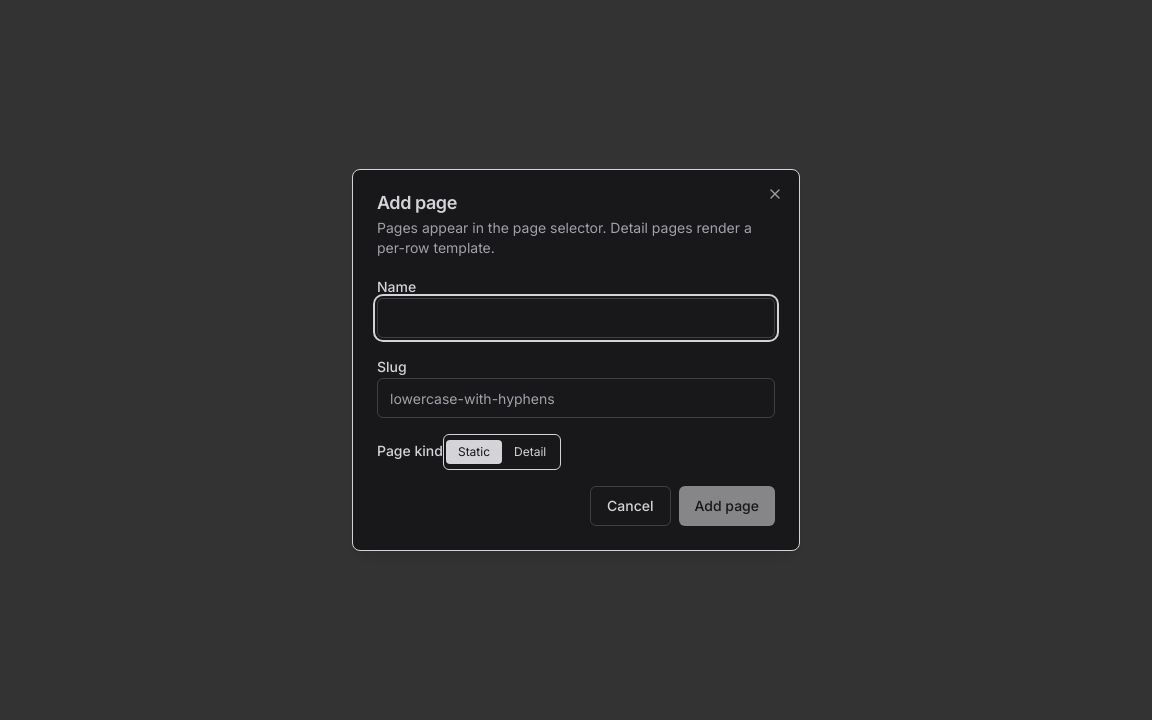
Scenario: <AddPageDialog> › blocks Submit when the slug conflicts with an existing same-kind page
In the field with test id "add-page-name": (576, 318) [377,298,775,338], type "Dup"
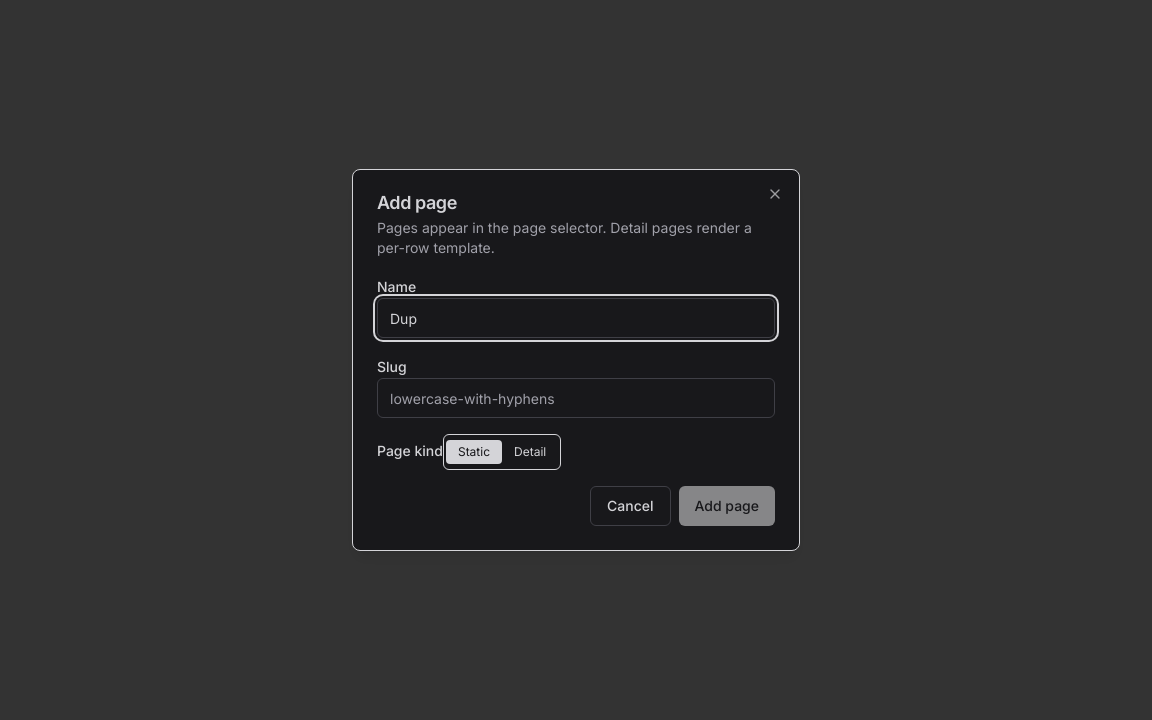
In the field with test id "add-page-slug": (576, 398) [377,378,775,418], type "properties"
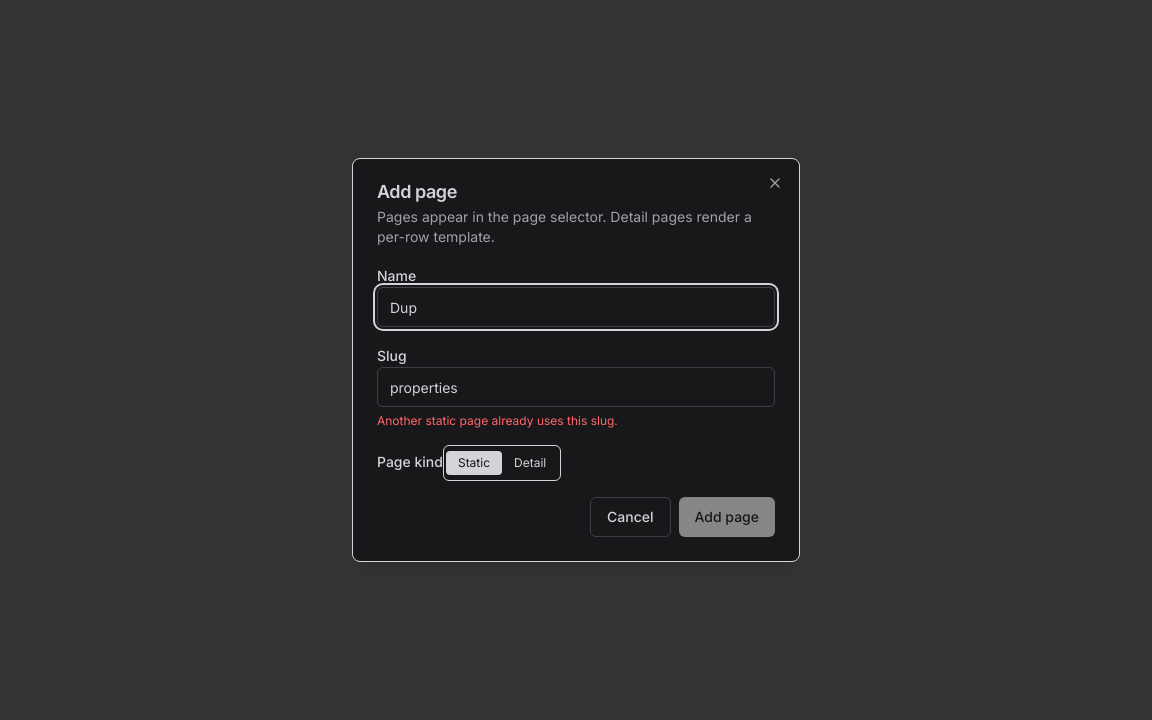
Check: the button with test id "add-page-submit" is disabled, box [678,497,775,537]
Check: the text "Another static page already uses this slug." is shown, box [377,413,618,428]
